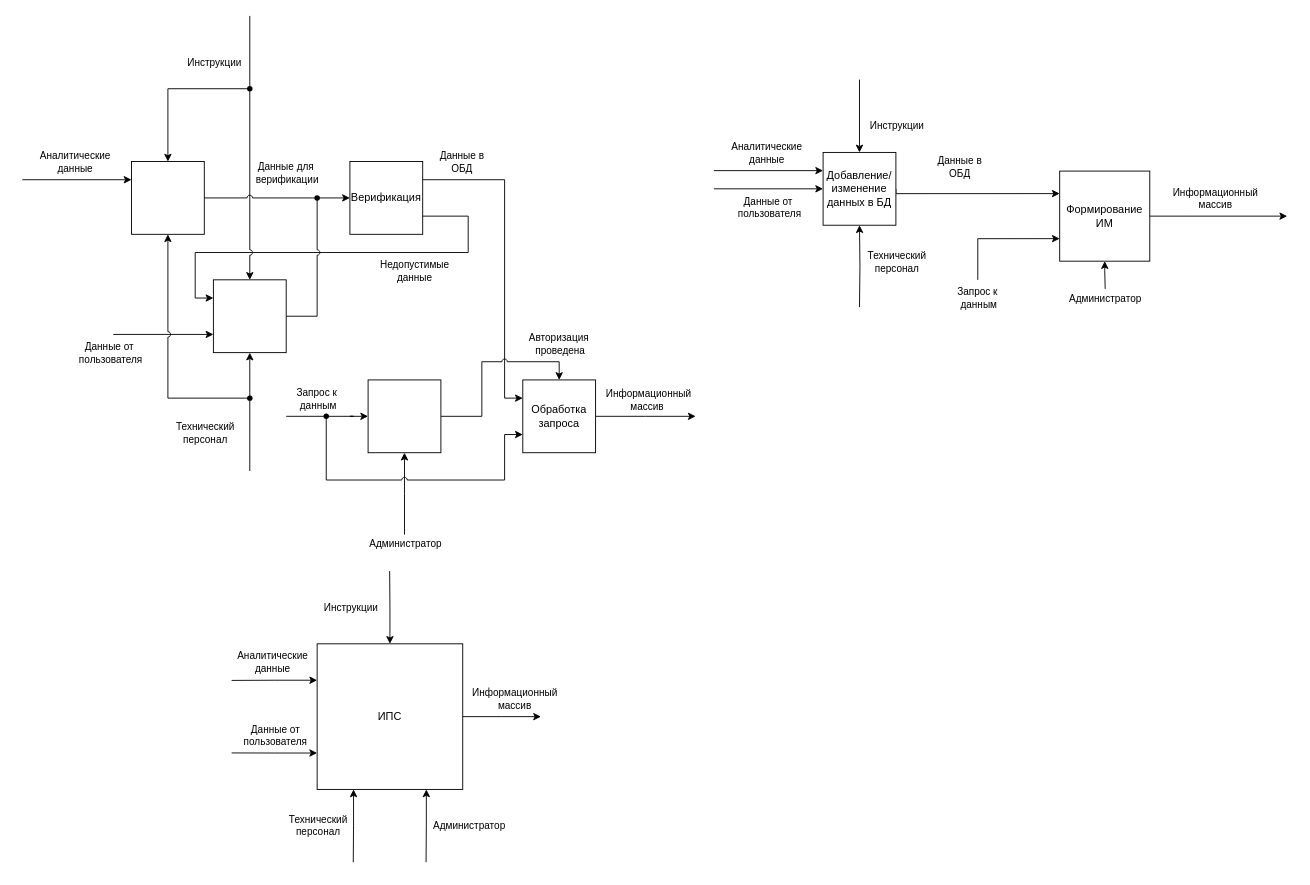
Some shapes in this 1310 by 885 pixel diagram are drawn without their labels. The centre of each missing label's shape, as x and y in pixels:
Авторизация: [404,416]
Импорт данных: [167,197]
Редактор данных: [249,316]
